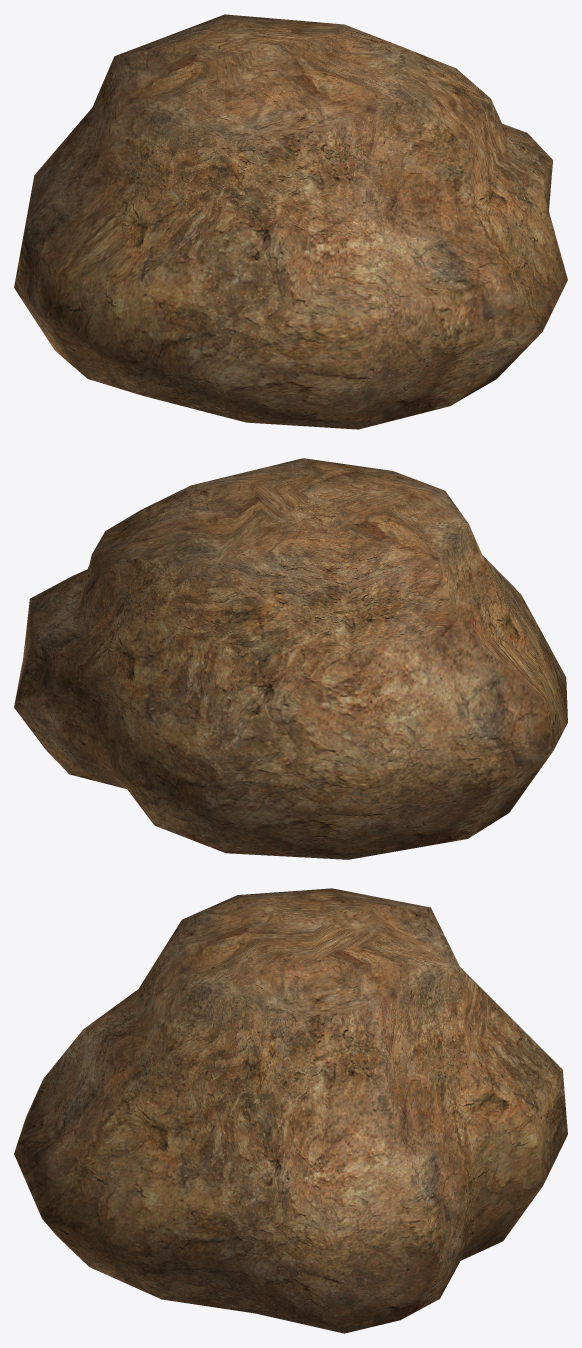
File: LionTemple_rock01.FBX
3 views of the same model, one above another, from view 1: azimuth 30°, elevation 25°; view 2: azimuth 150°, elevation 25°; view 3: azimuth 270°, elevation 25° (orthographic).
Visible parts, largest first — view 1: objStaticMeshActor675; view 2: objStaticMeshActor675; view 3: objStaticMeshActor675.
Part boxes in pixels (bbox=[...]): objStaticMeshActor675: bbox=[14, 14, 567, 429]; objStaticMeshActor675: bbox=[14, 458, 567, 859]; objStaticMeshActor675: bbox=[14, 888, 567, 1333].
Bounding box in the file's own units: 200 × 105 × 186.
Materials: 1 (1 with a texture image).
